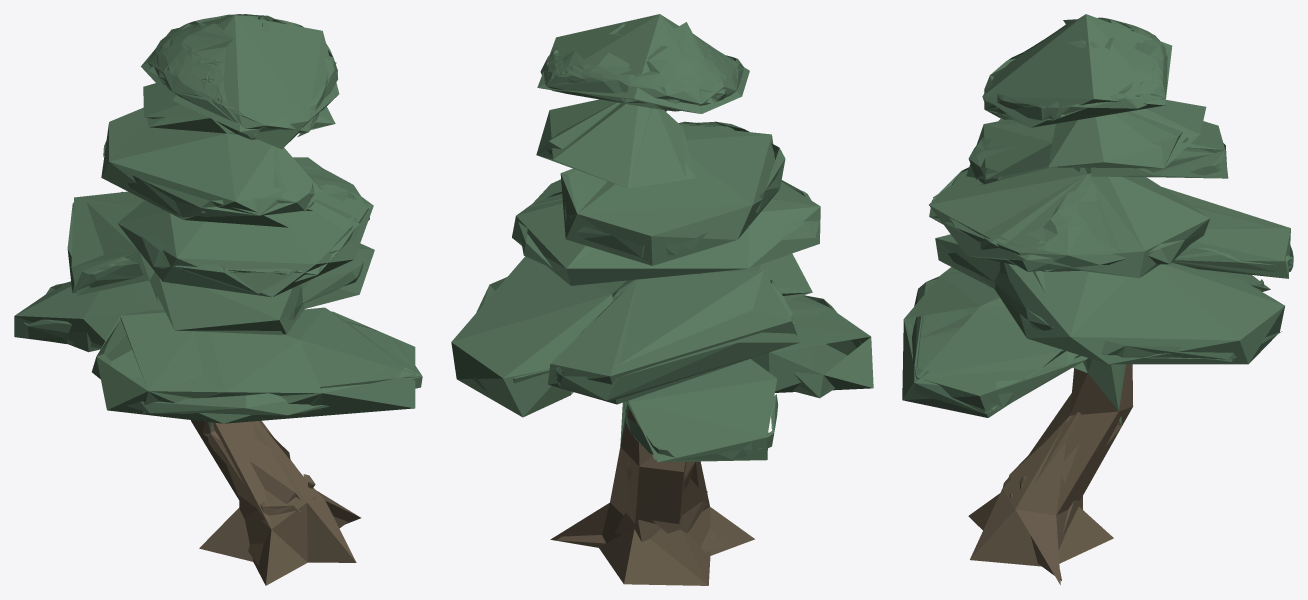
Rendered from ENV_09_PINE_game.glb.
The picture shows the model from 3 angles, left to right: view 1: azimuth 30°, elevation 25°; view 2: azimuth 150°, elevation 25°; view 3: azimuth 270°, elevation 25°; orthographic projection. The views are drawn at different scales.
Visible parts, largest first — view 1: ENV_09_PINE; view 2: ENV_09_PINE; view 3: ENV_09_PINE.
Boxes of the visible parts, x1,y1,x2,y2 form: ENV_09_PINE: [14, 14, 422, 585]; ENV_09_PINE: [451, 14, 873, 585]; ENV_09_PINE: [902, 14, 1293, 584].
Size of the model in its own units: 4.09 by 6.8 by 4.66.
